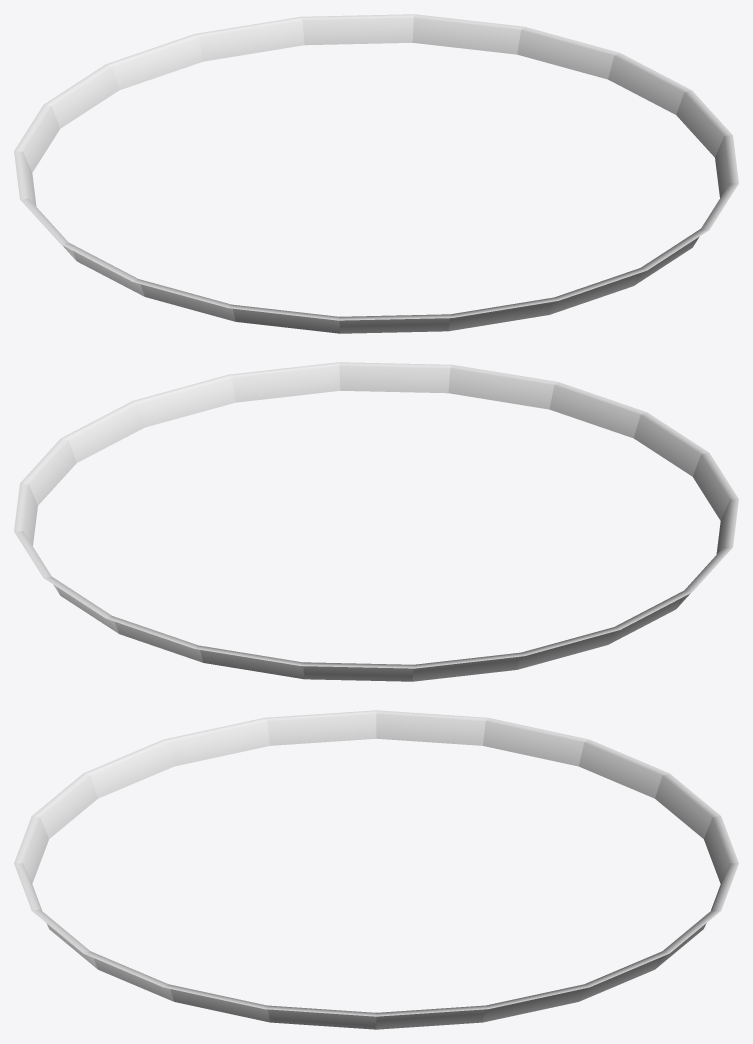
Rendered from boundary.fbx.
The picture shows the model from 3 angles, top to bottom: view 1: azimuth 30°, elevation 25°; view 2: azimuth 150°, elevation 25°; view 3: azimuth 270°, elevation 25°; orthographic projection.
Parts seen in each view (by area): view 1: pCylinder2; view 2: pCylinder2; view 3: pCylinder2.
Boxes of the visible parts, <box> form: pCylinder2: <box>14,14,738,333</box>; pCylinder2: <box>14,362,738,681</box>; pCylinder2: <box>14,710,738,1029</box>.
Size of the model in its own units: 2 by 0.0631 by 2.
